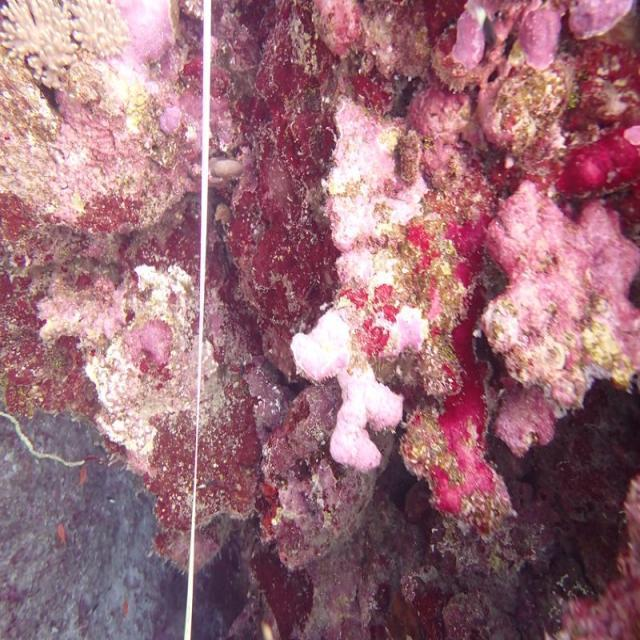Bleached Coral: (284, 90, 431, 491)
